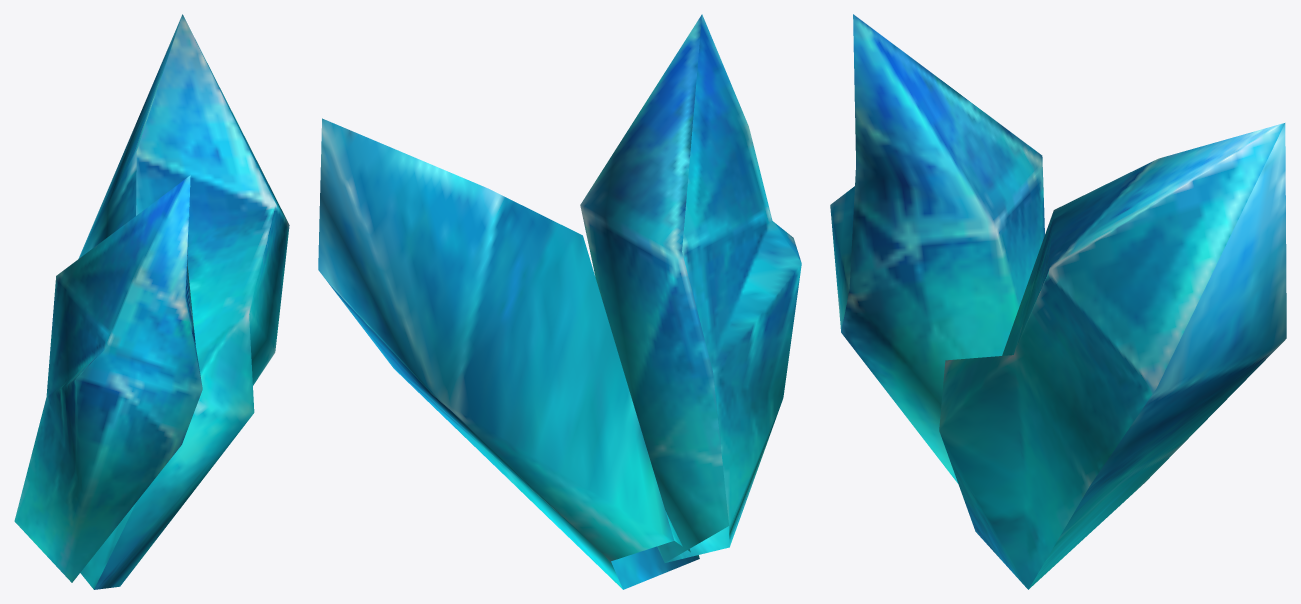
The model's file is SM_crystal_09.fbx.
3 views of the same model, side by side, from view 1: azimuth 30°, elevation 25°; view 2: azimuth 150°, elevation 25°; view 3: azimuth 270°, elevation 25° (orthographic). The views are drawn at different scales.
Visible parts, largest first — view 1: SM_crystal_09; view 2: SM_crystal_09; view 3: SM_crystal_09.
Part boxes in pixels (x1,y1,x2,y2): SM_crystal_09: (14, 14, 289, 589); SM_crystal_09: (318, 14, 801, 589); SM_crystal_09: (830, 14, 1286, 589).
Size of the model in its own units: 0.9459 by 1.3 by 0.9317.
